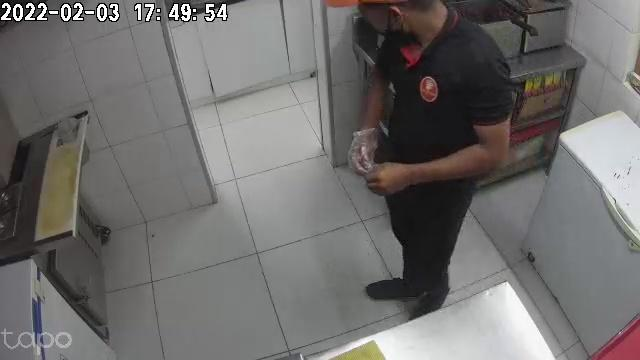gloves: (347, 114, 378, 165)
no_gloves: (365, 165, 422, 192)
